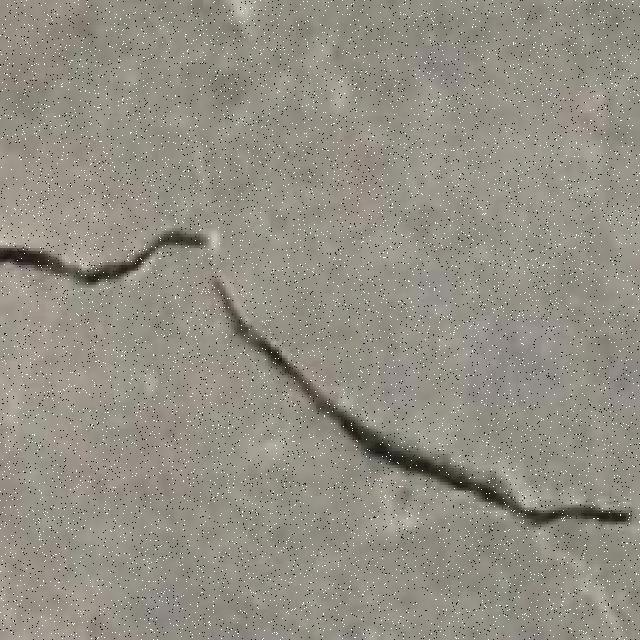crack: (208, 272, 632, 524), (5, 231, 275, 522), (5, 231, 218, 285)
